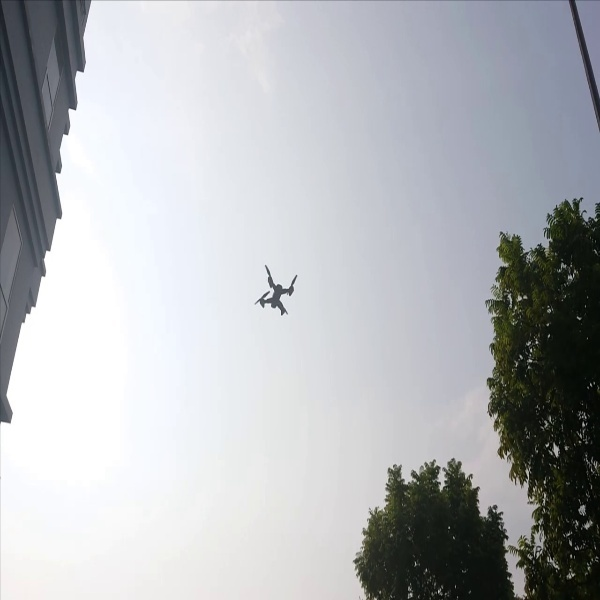drone: (249, 260, 304, 319)
